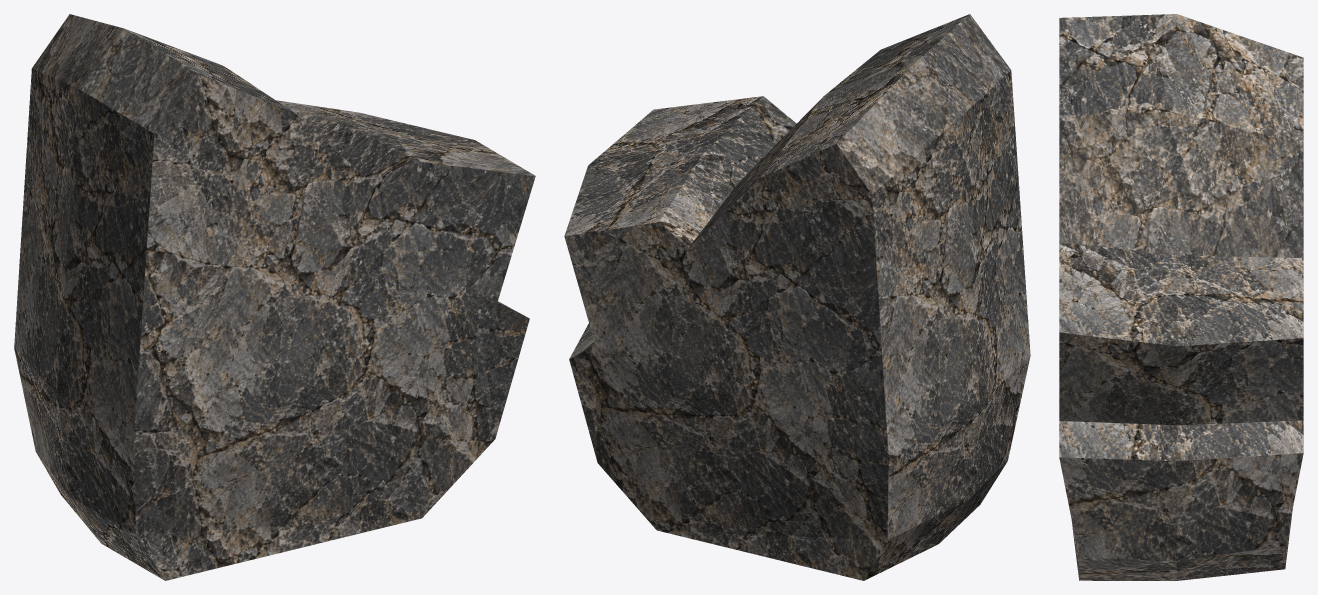
Rendered from ReferenceSlate.glb.
3 views of the same model, side by side, from view 1: azimuth 30°, elevation 25°; view 2: azimuth 150°, elevation 25°; view 3: azimuth 270°, elevation 25° (orthographic). The views are drawn at different scales.
Parts seen in each view (by area): view 1: ReferenceRock_FracturedSlate_01; view 2: ReferenceRock_FracturedSlate_01; view 3: ReferenceRock_FracturedSlate_01.
Boxes of the visible parts, x1,y1,x2,y2 form: ReferenceRock_FracturedSlate_01: [14, 14, 535, 580]; ReferenceRock_FracturedSlate_01: [564, 14, 1030, 580]; ReferenceRock_FracturedSlate_01: [1059, 14, 1303, 580].
Bounding box in the file's own units: 2.85 × 3.32 × 1.6.
1 material, 1 textured.
